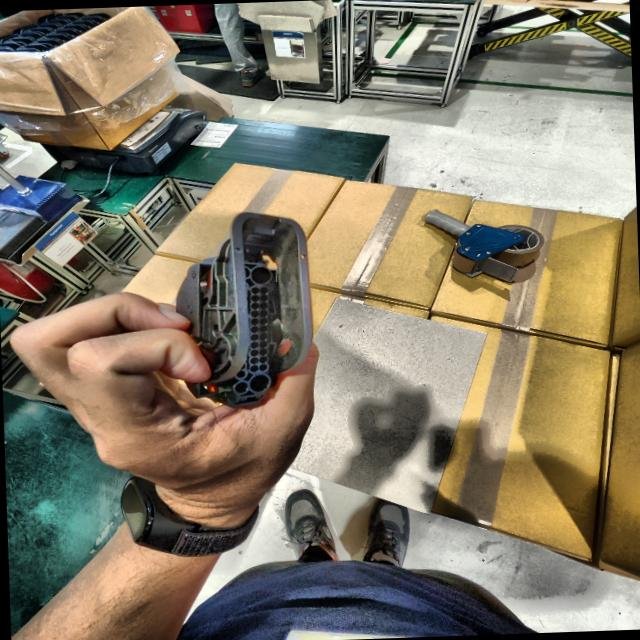P38: (176, 212, 312, 407)
